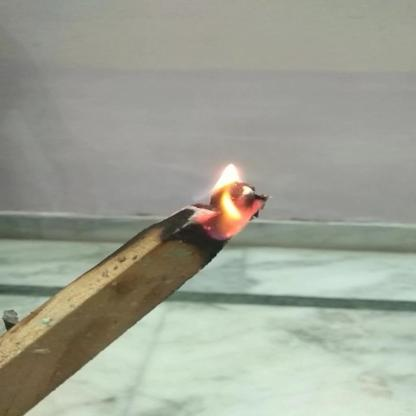fire: (179, 156, 272, 246)
